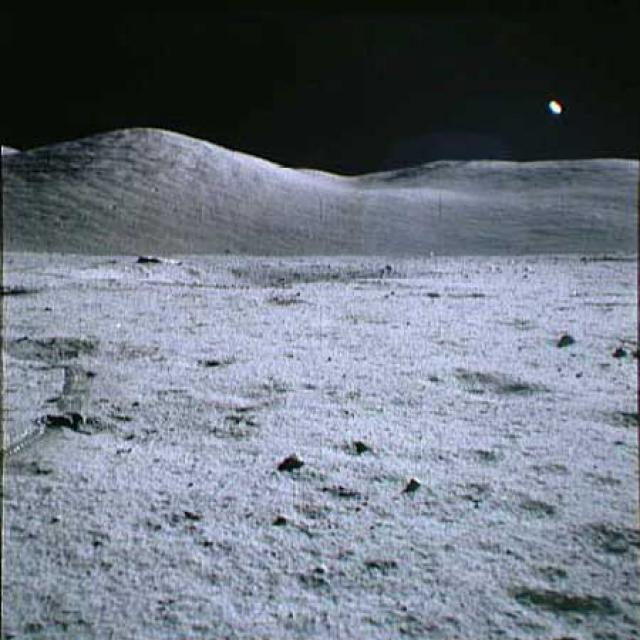crater: (95, 256, 400, 293), (412, 350, 533, 408), (8, 324, 162, 366), (560, 398, 640, 436), (0, 265, 43, 299)
